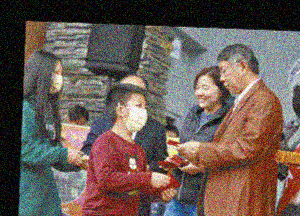with_mask: (121, 98, 148, 133), (47, 66, 63, 95)
without_mask: (217, 63, 242, 95), (193, 81, 218, 108)
